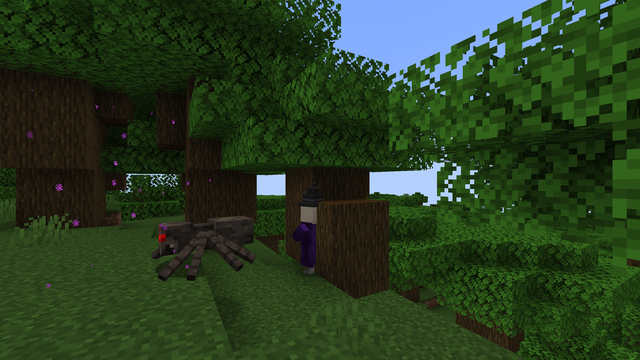araignees: (156, 211, 245, 282)
sorcieres: (298, 202, 318, 276)
